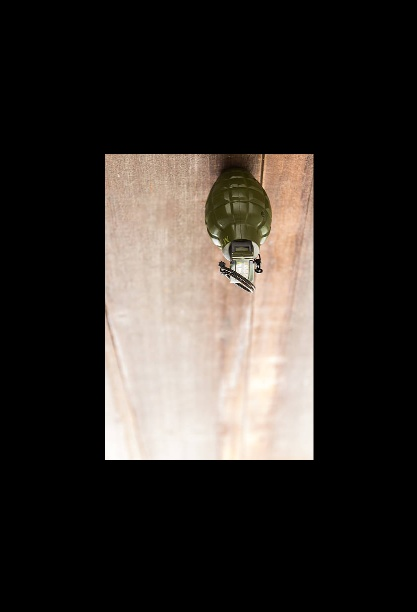e1: (201, 163, 276, 295)
